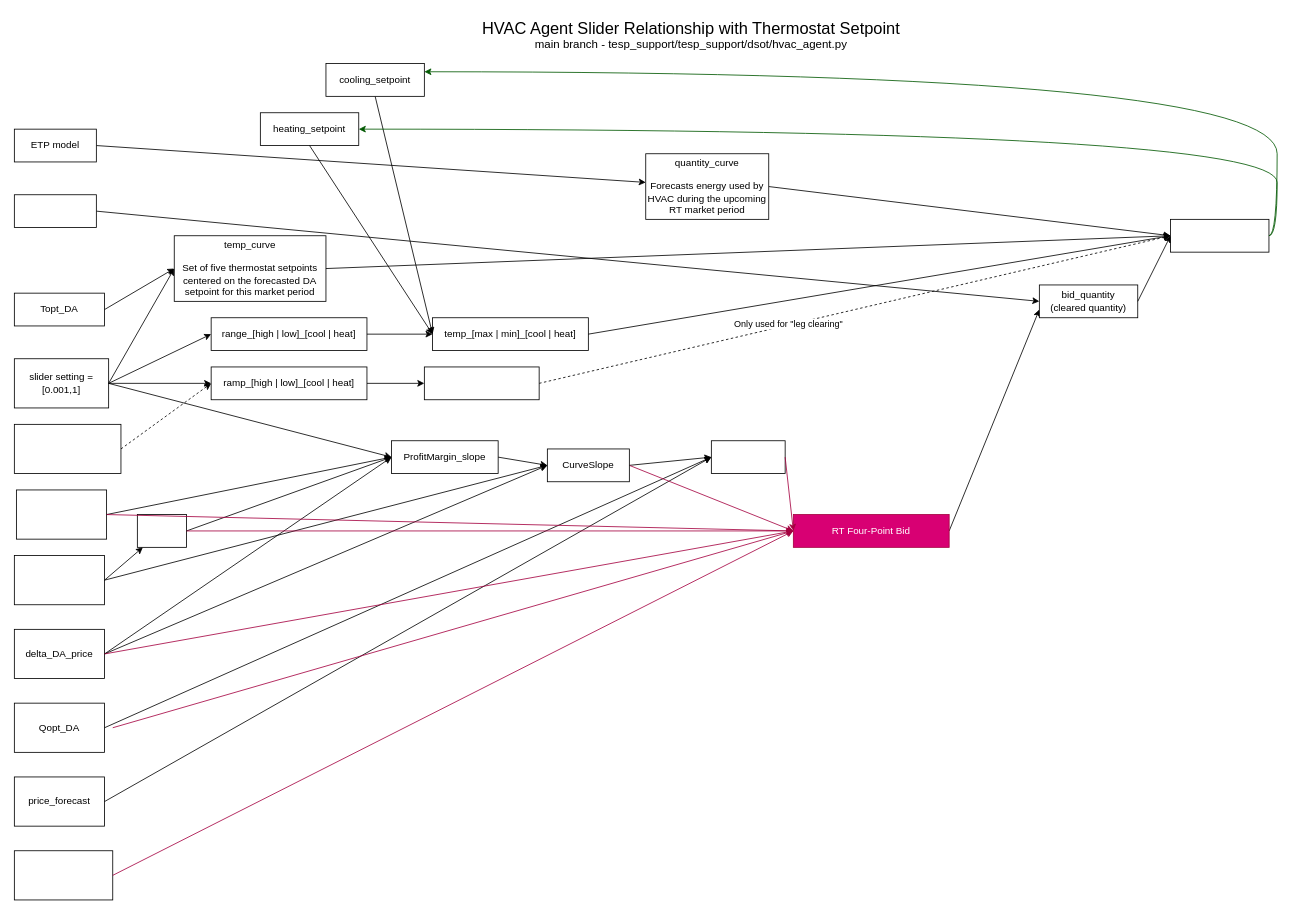
Some shapes in this 1292 by 914 pixel diagram are drawn without their labels. Each missing label, with the centre of its shape:
"cleared_price" belongs at point (55, 211).
"hvac_kw" belongs at point (59, 580).
"ProfitMargin_intercept" belongs at point (63, 875).
"Qmax" belongs at point (162, 530).
"Qmin = 0" belongs at point (61, 514).
"ramp_[high | low]_limit" belongs at point (67, 449).
"ramp_[high | low]_tmp" belongs at point (481, 383).
"setpoint_tmp" belongs at point (1219, 235).
"yIntercept" belongs at point (748, 457).
